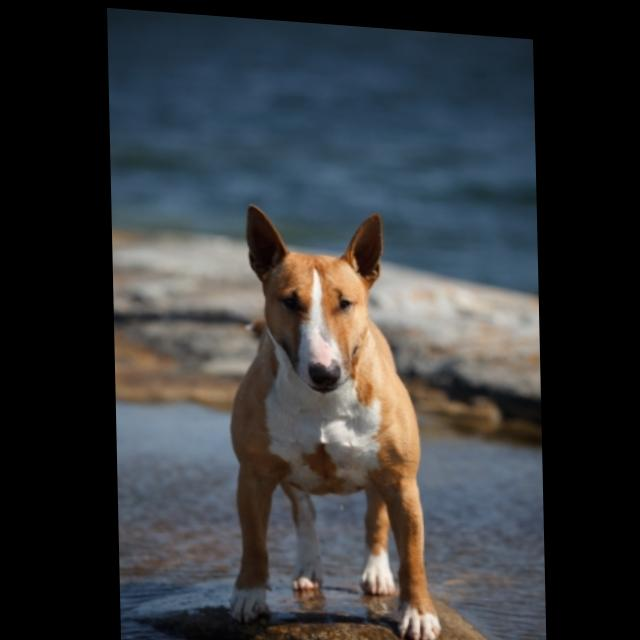bullterrier: (219, 196, 441, 639)
